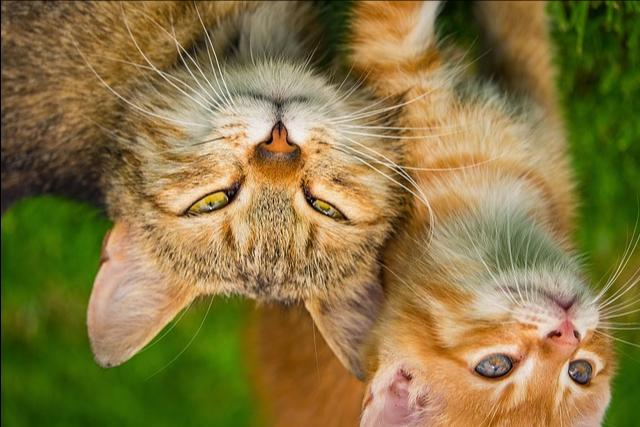Non_Gorille: (40, 0, 612, 424)
